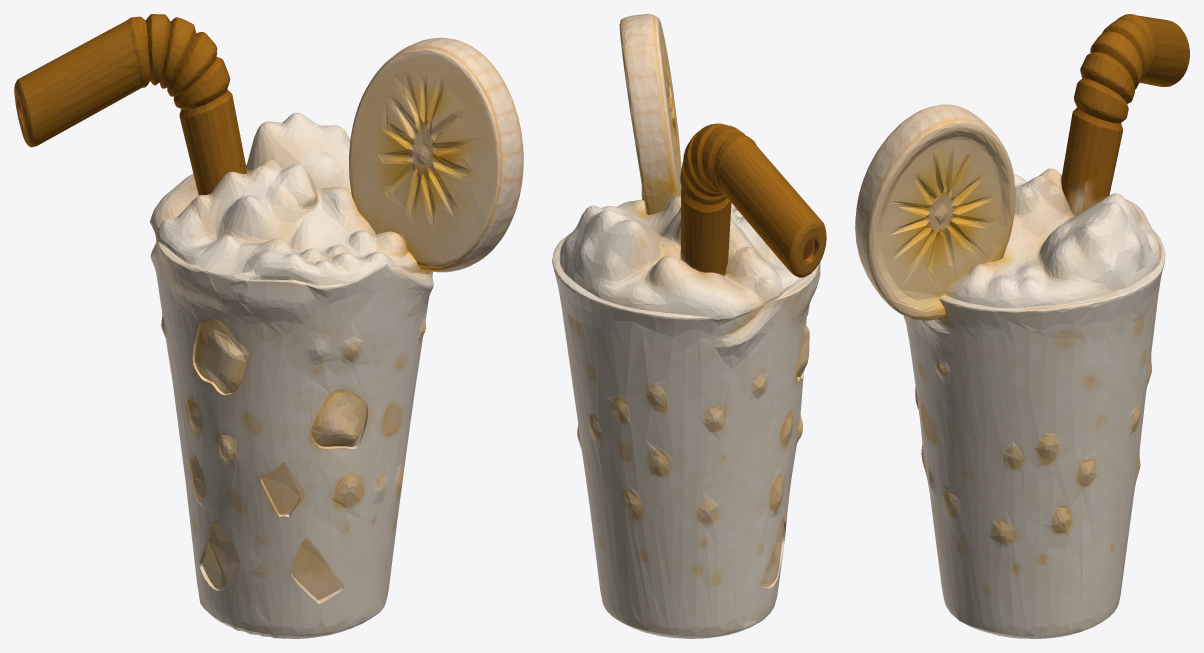
The model's file is Web_MilkSlush_Banana.obj.
3 renders of one model, left to right at view 1: azimuth 30°, elevation 25°; view 2: azimuth 150°, elevation 25°; view 3: azimuth 270°, elevation 25°, orthographic. The views are drawn at different scales.
Parts seen in each view (by area): view 1: Web_MilkSlush_Banana; view 2: Web_MilkSlush_Banana; view 3: Web_MilkSlush_Banana.
Part boxes in pixels (box(x1,y1,x2,y2)): Web_MilkSlush_Banana: box(14, 14, 523, 638); Web_MilkSlush_Banana: box(552, 14, 826, 638); Web_MilkSlush_Banana: box(855, 14, 1189, 638).
Bounding box in the file's own units: 0.6415 × 0.9997 × 0.5548.
Materials: 1 (1 with a texture image).
